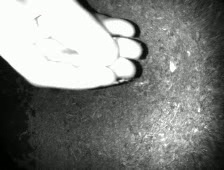corn: (167, 57, 177, 74)
